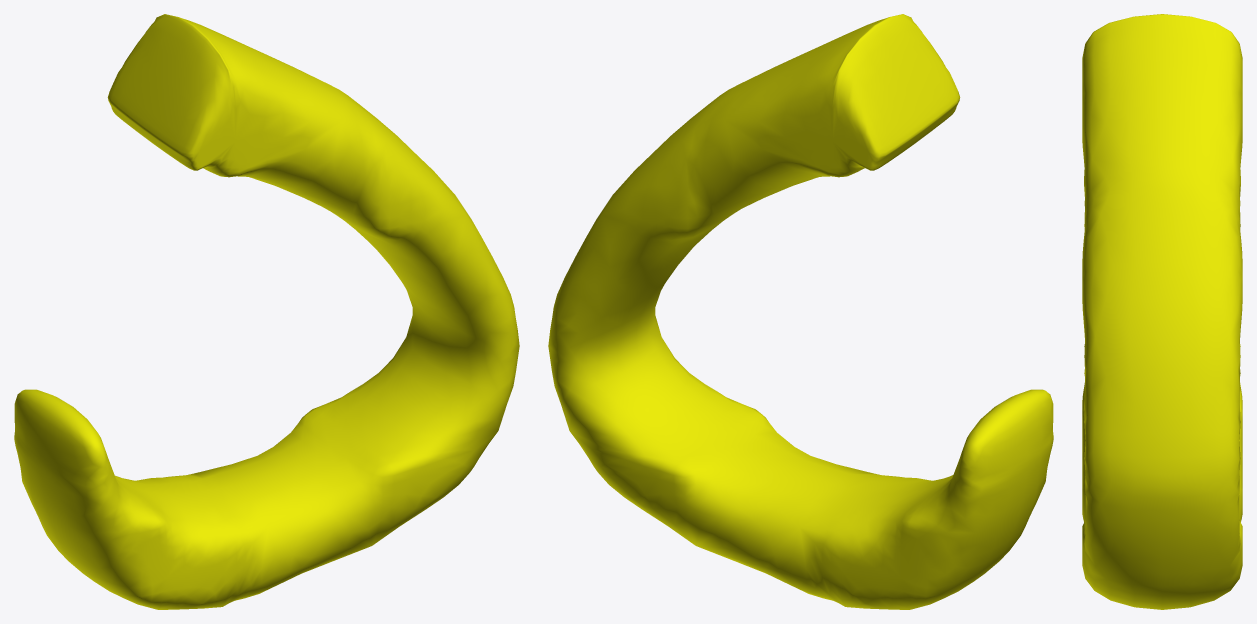
3 renders of one model, left to right at view 1: azimuth 30°, elevation 25°; view 2: azimuth 150°, elevation 25°; view 3: azimuth 270°, elevation 25°, orthographic. The views are drawn at different scales.
Parts seen in each view (by area): view 1: char_1; view 2: char_1; view 3: char_1.
Part boxes in pixels (left/top/right/bottom): char_1: left=14, top=14, right=519, bottom=609; char_1: left=548, top=14, right=1053, bottom=609; char_1: left=1082, top=14, right=1242, bottom=609.
Size of the model in its own units: 4.39 by 5.24 by 1.4.
